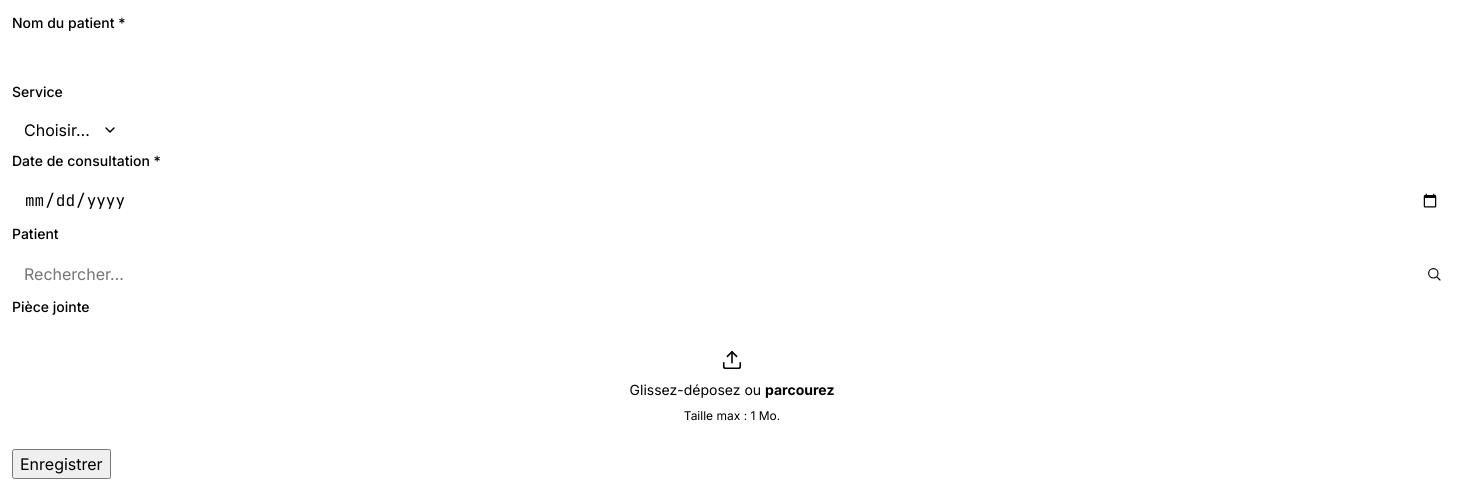
Test: Form system › FormAutocomplete : aucun résultat annonce un état vide
Type "zz" into the dropdown labelled "Patient" at (732, 274), box [12, 252, 1452, 296]
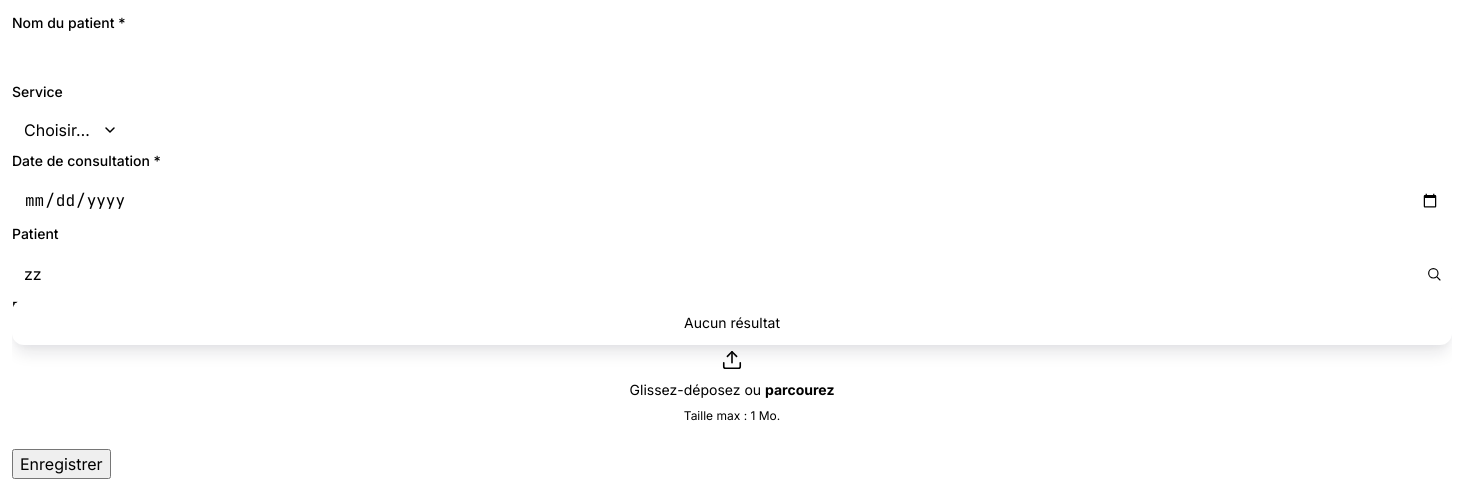
Expected: the list item "Aucun résultat" is shown, [684, 314, 780, 331]
